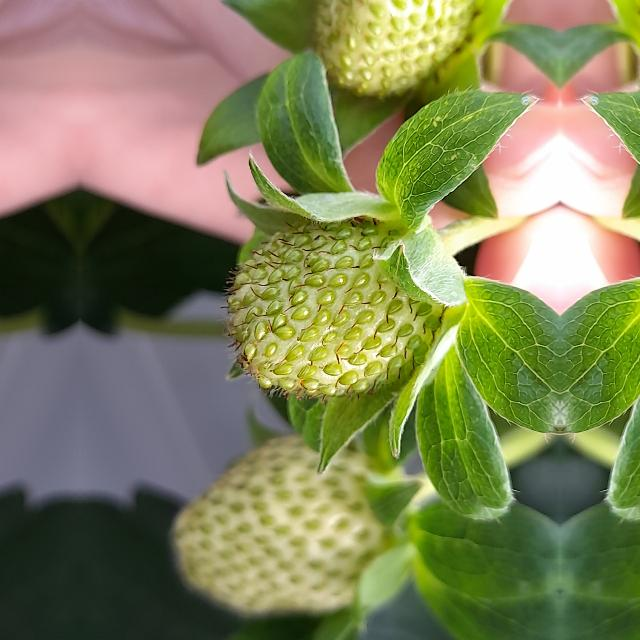Health_25: (166, 432, 410, 614), (220, 218, 442, 402)
